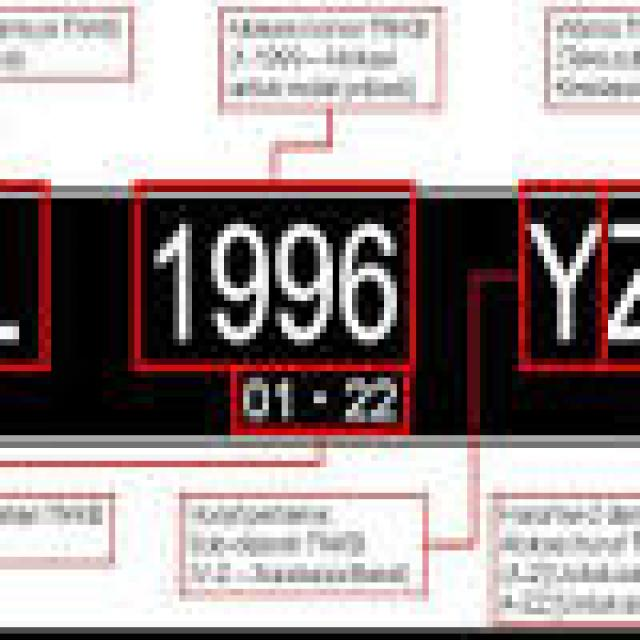lisence-plate: (0, 184, 640, 443)
